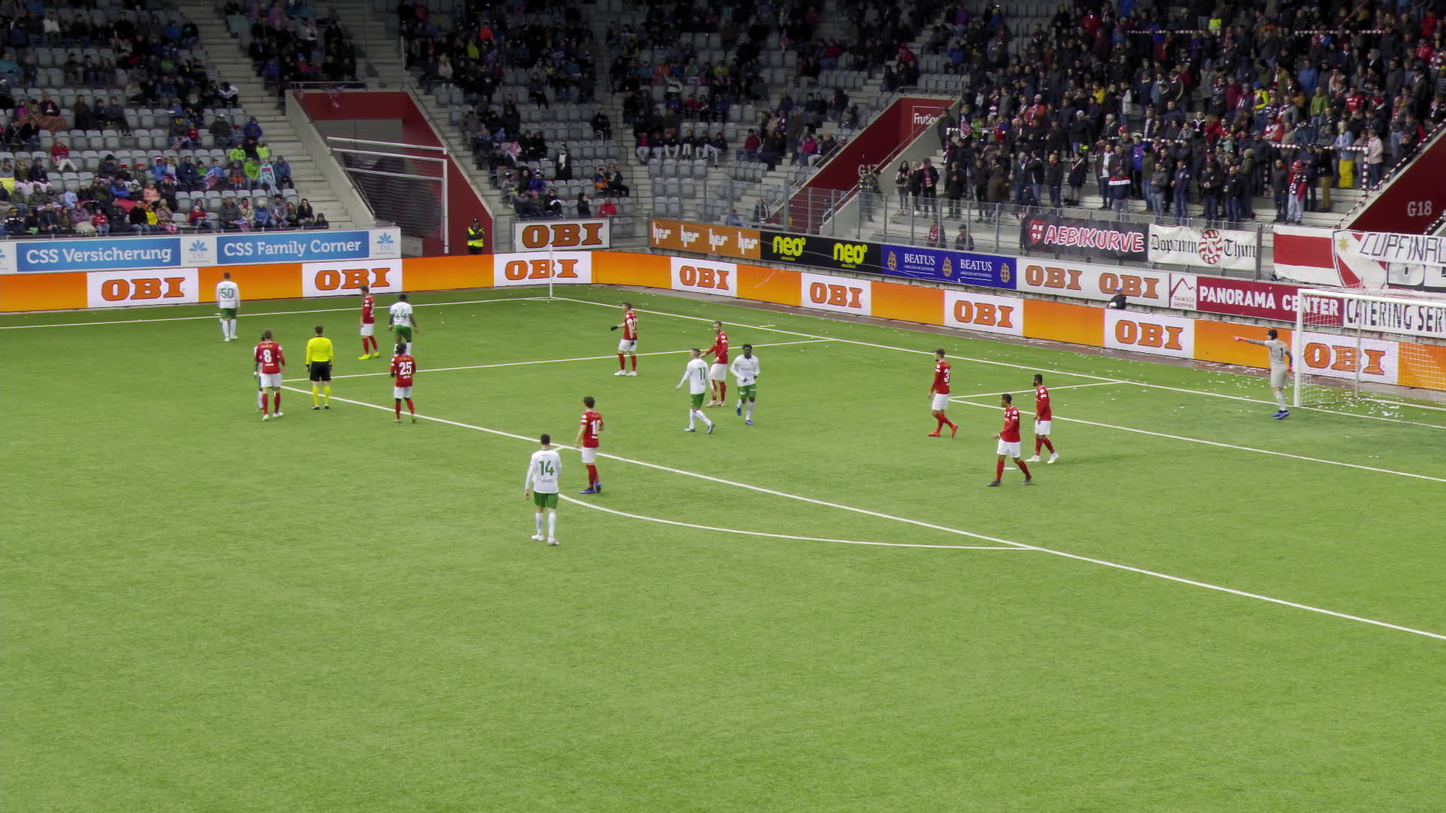ball: (218, 317, 222, 323)
player: (1222, 326, 1294, 421), (519, 431, 566, 547), (981, 389, 1033, 488), (670, 344, 721, 436), (918, 345, 962, 443), (569, 394, 608, 497), (688, 319, 731, 408), (1023, 370, 1062, 466), (728, 341, 763, 428), (253, 327, 285, 422), (604, 298, 641, 380), (386, 339, 419, 425), (383, 292, 418, 370), (349, 282, 383, 361), (250, 324, 278, 412), (211, 269, 245, 340)
referee: (300, 323, 334, 413)
